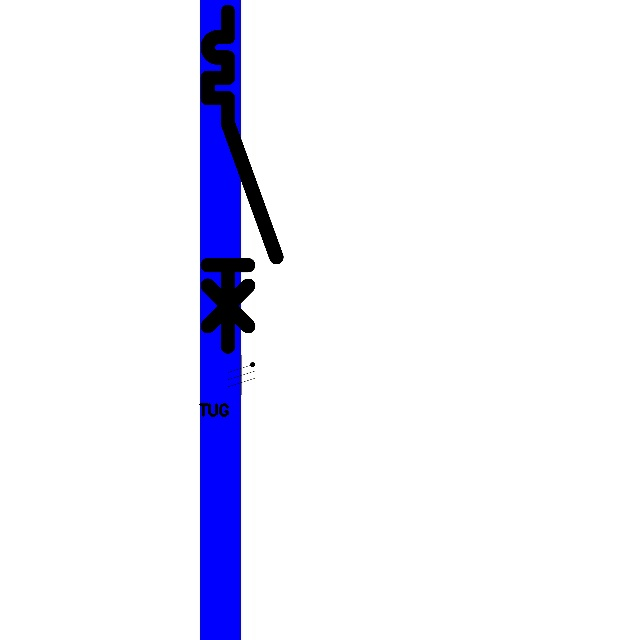interruptor_termomagnetico: (199, 3, 285, 355)
